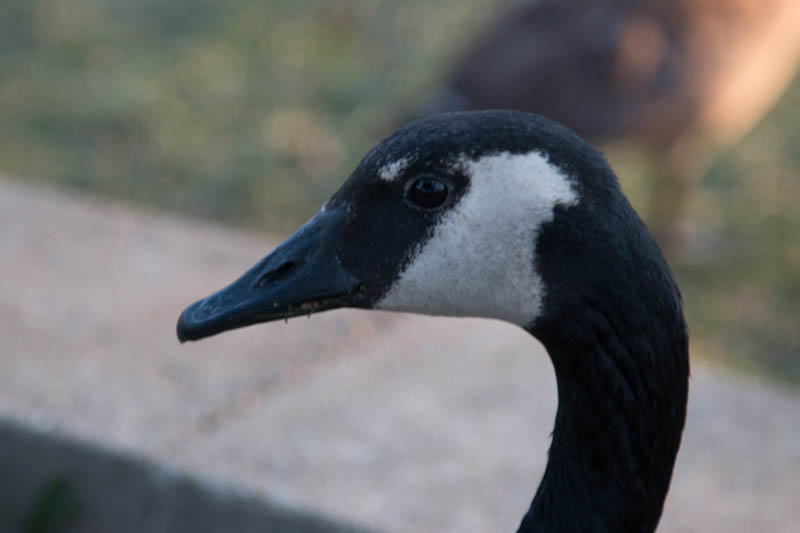goose-head: (174, 110, 678, 341)
